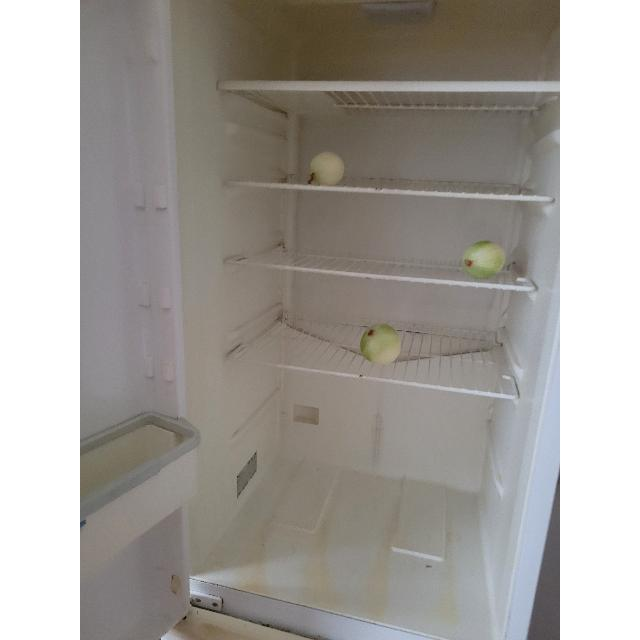onion: (360, 322, 402, 366), (462, 240, 504, 280), (308, 151, 346, 187)
